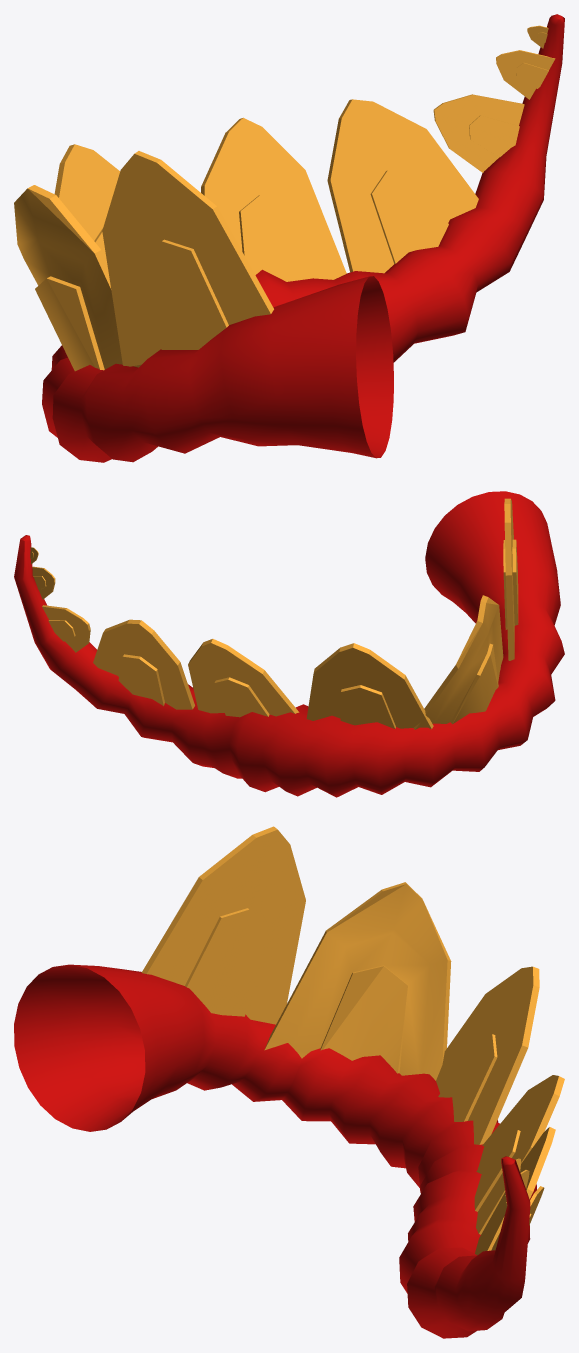
3 renders of one model, top to bottom at view 1: azimuth 30°, elevation 25°; view 2: azimuth 150°, elevation 25°; view 3: azimuth 270°, elevation 25°, orthographic. The views are drawn at different scales.
Visible parts, largest first — view 1: 282, tail_002; view 2: tail_002, 282; view 3: tail_002, 282.
Part boxes in pixels (x1,y1,x2,y2): 282: (14, 25, 555, 371); tail_002: (42, 14, 564, 462); tail_002: (14, 491, 564, 797); 282: (30, 498, 518, 729); tail_002: (14, 964, 536, 1338); 282: (141, 826, 564, 1255).
Bounding box in the file's own units: 113 × 94.74 × 65.87.
